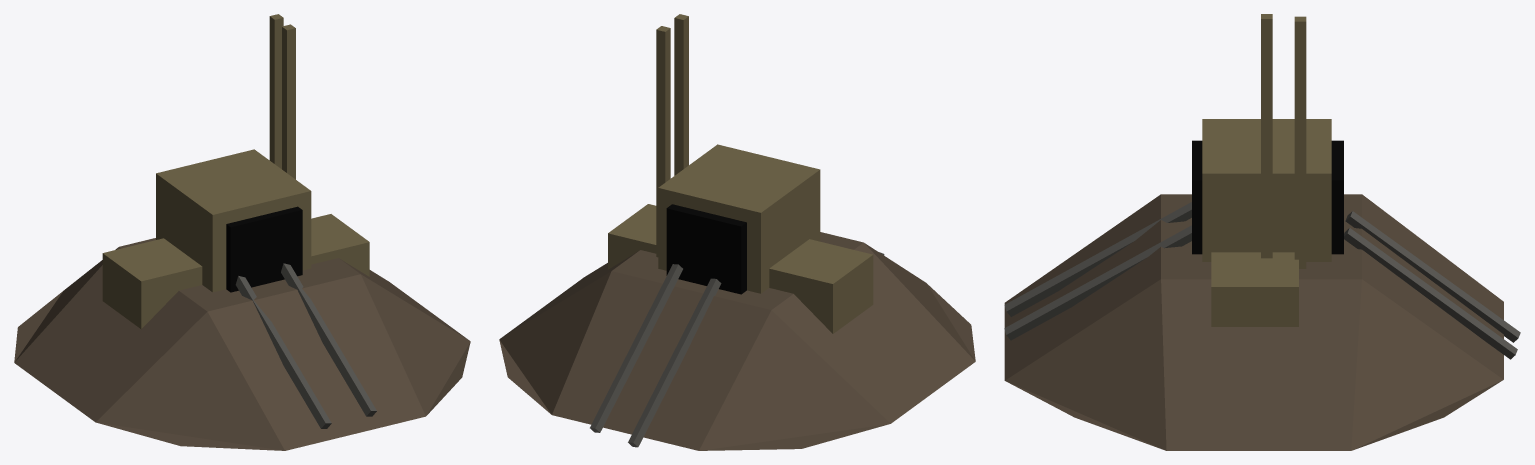
Rendered from Mine.glb.
3 views of the same model, side by side, from view 1: azimuth 30°, elevation 25°; view 2: azimuth 150°, elevation 25°; view 3: azimuth 270°, elevation 25° (orthographic). The views are drawn at different scales.
Visible parts, largest first — view 1: Plane; view 2: Plane; view 3: Plane.
Boxes of the visible parts, left/top/right/bottom form: Plane: left=14, top=14, right=470, bottom=450; Plane: left=499, top=14, right=975, bottom=450; Plane: left=1004, top=14, right=1520, bottom=450.
Bounding box in the file's own units: 1.14 × 0.9246 × 1.2.
